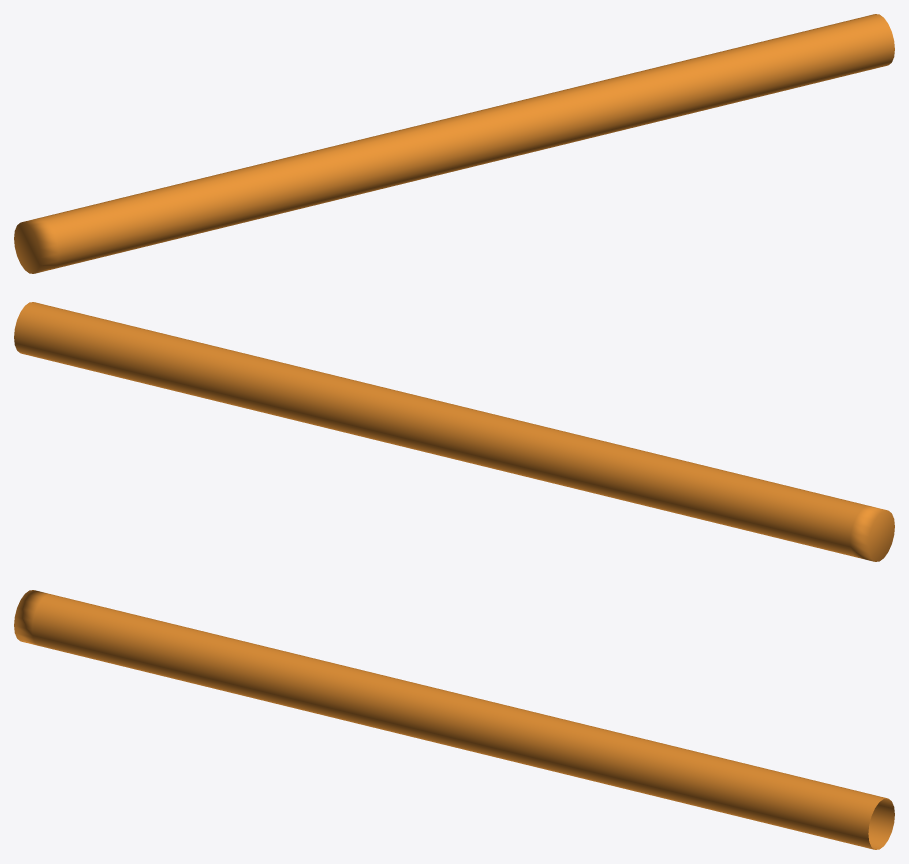
File: Apagador.dae
3 renders of one model, top to bottom at view 1: azimuth 30°, elevation 25°; view 2: azimuth 150°, elevation 25°; view 3: azimuth 330°, elevation 25°, orthographic.
Visible parts, largest first — view 1: NurbsPath; view 2: NurbsPath; view 3: NurbsPath.
Part boxes in pixels (bbox=[...]): NurbsPath: bbox=[14, 14, 894, 273]; NurbsPath: bbox=[14, 302, 894, 561]; NurbsPath: bbox=[14, 590, 894, 849].
Bounding box in the file's own units: 0.9374 × 0.0505 × 0.0497.
